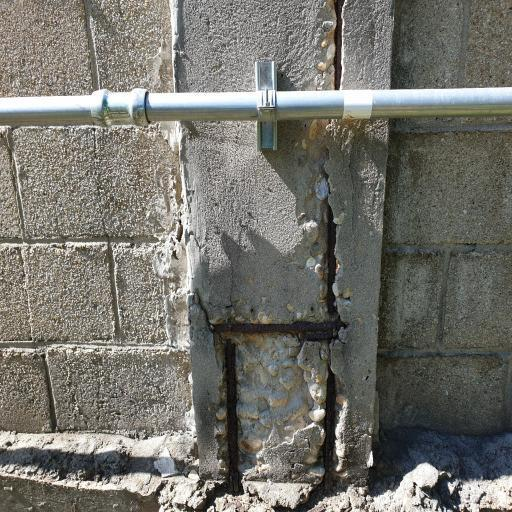exposed_rebar: (216, 206, 337, 494), (323, 370, 336, 491), (335, 0, 344, 86)
spalling: (231, 333, 329, 472)
